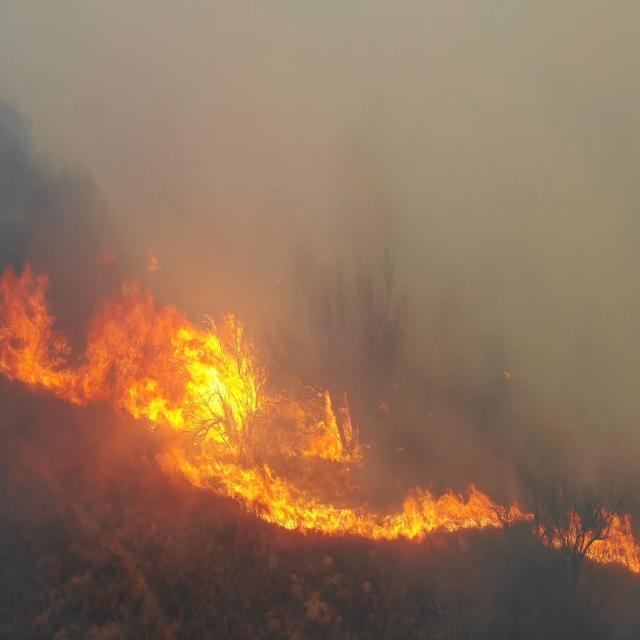Fire: (248, 485, 507, 549), (180, 396, 304, 529), (144, 320, 259, 445), (69, 286, 174, 422), (0, 260, 62, 379), (290, 390, 356, 472), (570, 508, 640, 574)
Smoke: (0, 100, 112, 264)
